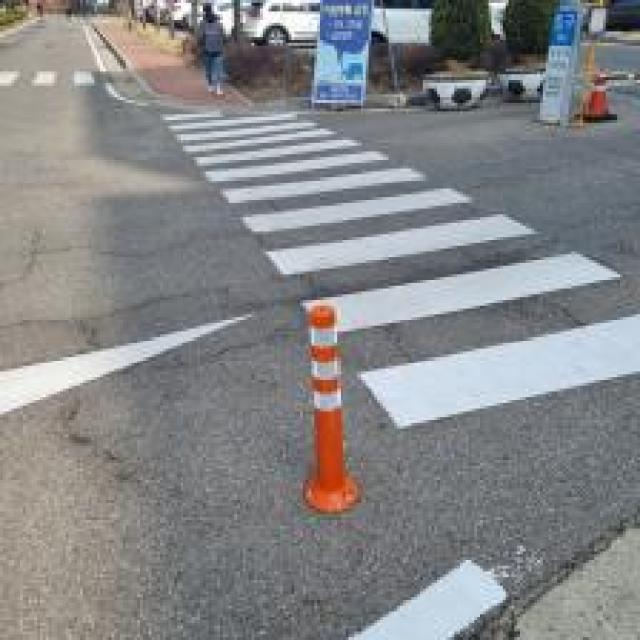crosswalk: (164, 98, 640, 465), (1, 58, 121, 109)
